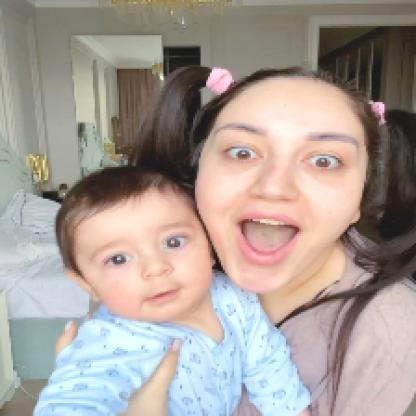child: (38, 166, 315, 415)
